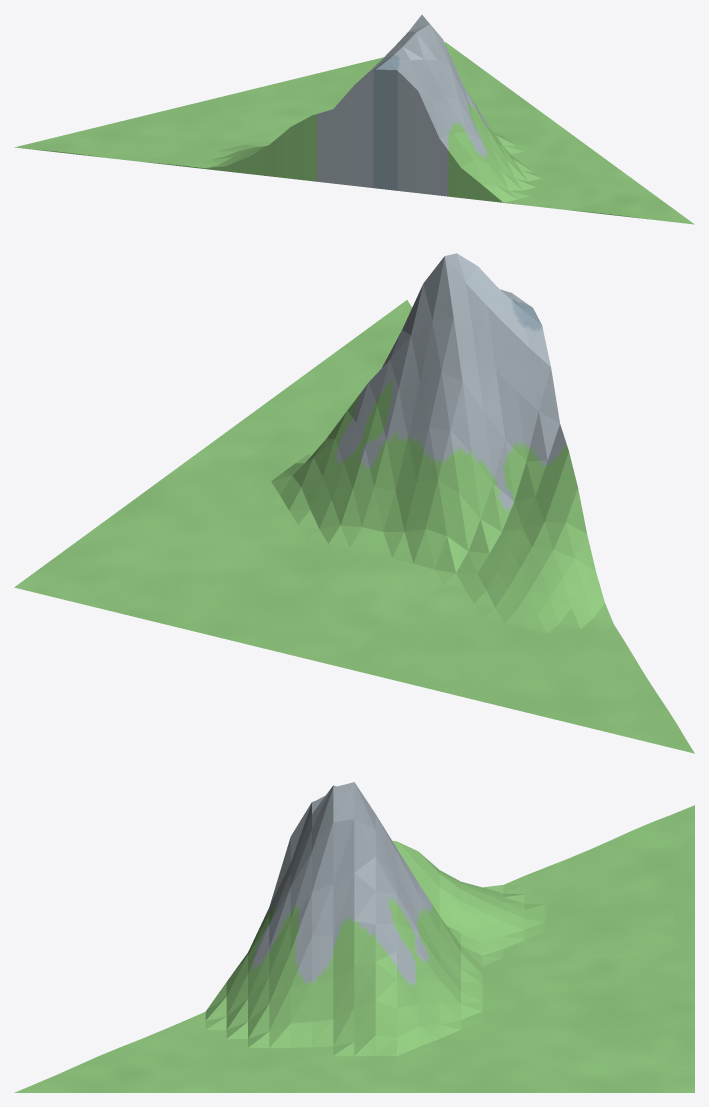
The model's file is Grass_RockyMountains_11_SE.obj.
3 views of the same model, one above another, from view 1: azimuth 30°, elevation 25°; view 2: azimuth 150°, elevation 25°; view 3: azimuth 270°, elevation 25° (orthographic). The views are drawn at different scales.
Size of the model in its own units: 10 by 3.43 by 10.
1 material, 1 textured.
